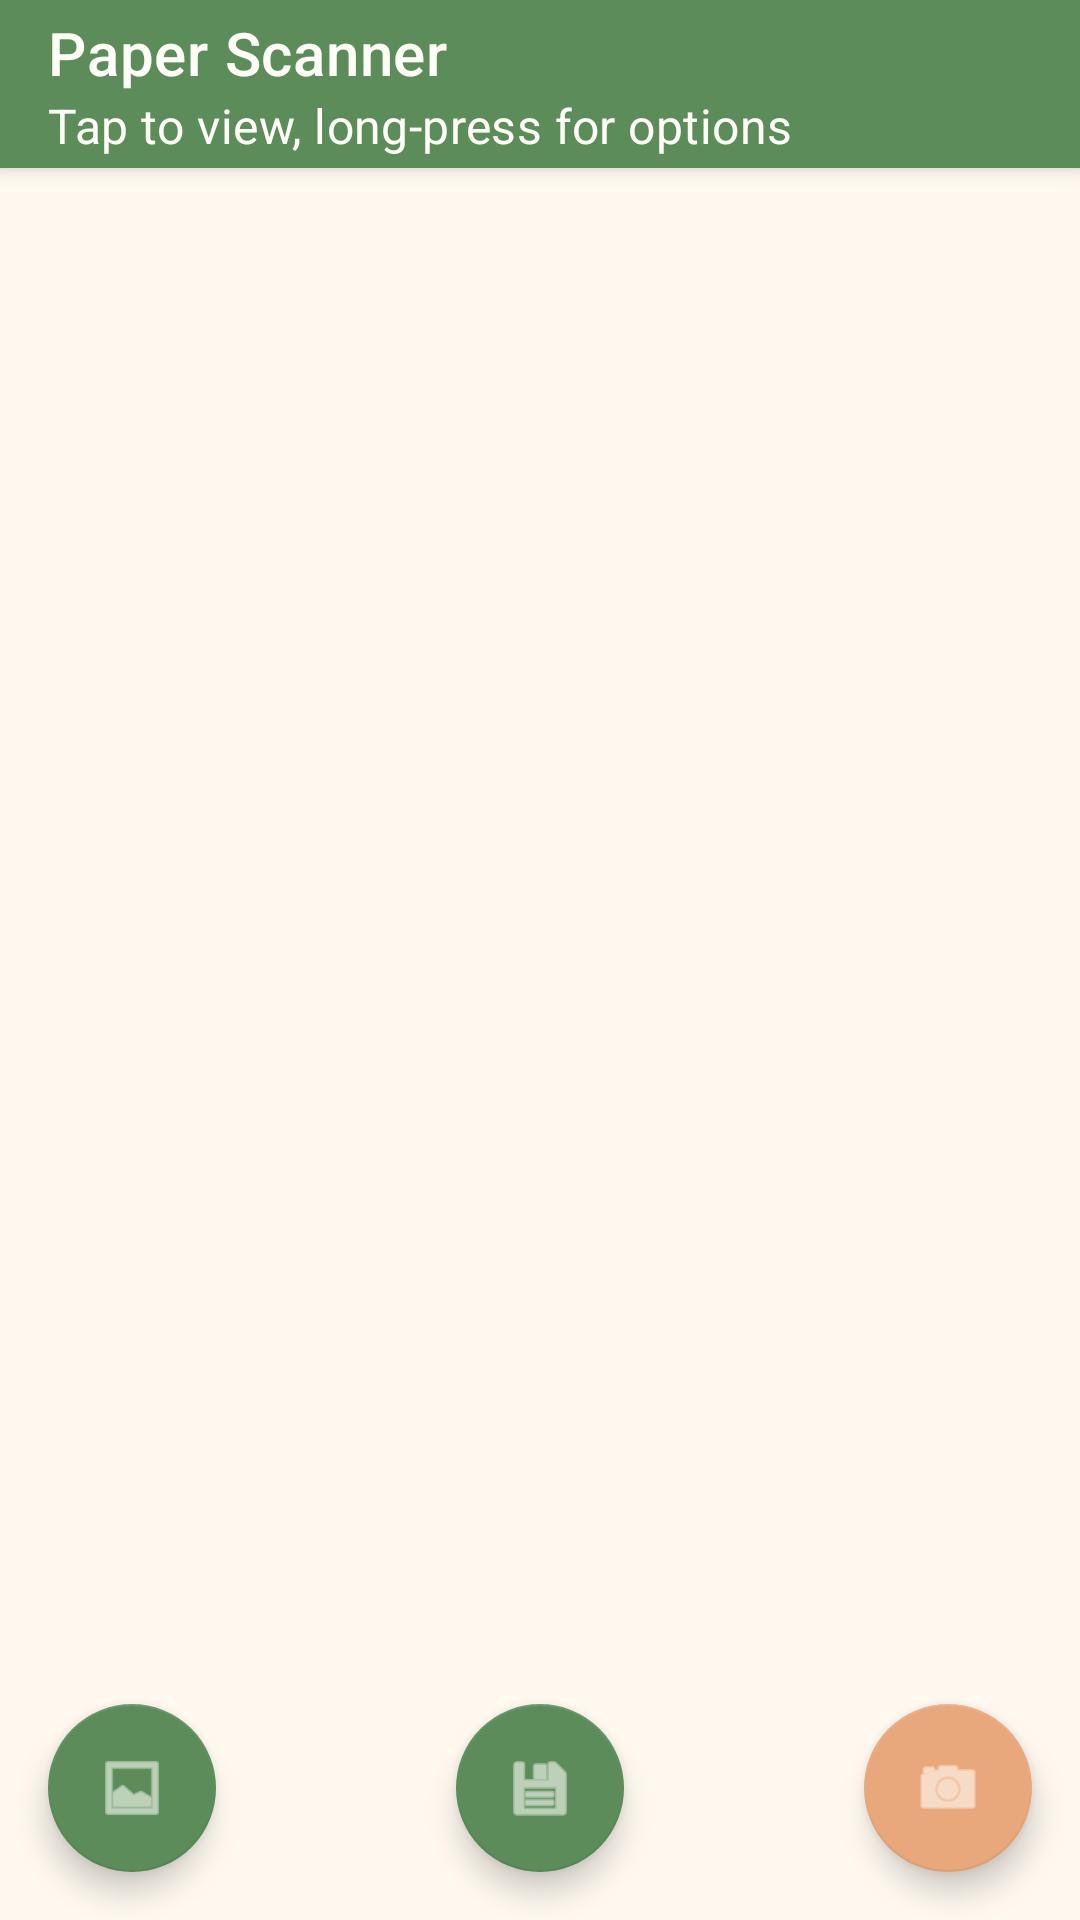

Icon click points for this 1080*1920 phone screenshot, format (x,y):
camera: (948,1788)
gallery: (132,1788)
save: (540,1788)
